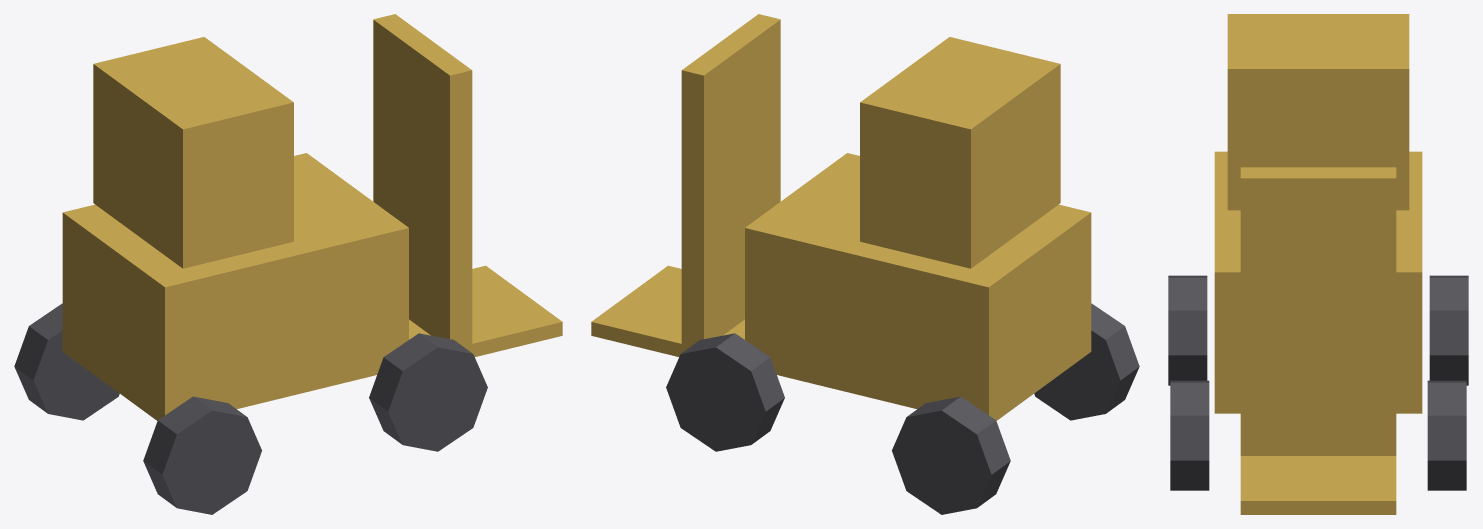
The picture shows the model from 3 angles, left to right: view 1: azimuth 30°, elevation 25°; view 2: azimuth 150°, elevation 25°; view 3: azimuth 270°, elevation 25°; orthographic projection.
Parts seen in each view (by area): view 1: part0, part1, part2, part5, part7, part6, part3; view 2: part0, part1, part2, part4, part6, part7, part3; view 3: part2, part1, part0, part3, part4, part5, part6, part7.
Boxes of the visible parts, x1,y1,x2,y2 form: part0: (62, 153, 408, 420); part1: (93, 37, 293, 268); part2: (373, 14, 472, 348); part5: (369, 333, 487, 451); part7: (143, 396, 261, 514); part6: (14, 303, 119, 420); part3: (409, 265, 562, 356); part0: (745, 153, 1091, 420); part1: (860, 37, 1060, 268); part2: (681, 14, 780, 349); part4: (666, 333, 784, 451); part6: (892, 396, 1010, 514); part7: (1034, 303, 1139, 420); part3: (591, 265, 744, 356); part2: (1240, 167, 1396, 455); part1: (1227, 14, 1409, 210); part0: (1214, 151, 1422, 413); part3: (1240, 456, 1396, 514); part4: (1427, 380, 1466, 490); part5: (1170, 380, 1209, 490); part6: (1429, 275, 1468, 385); part7: (1168, 275, 1207, 385).
Bounding box in the file's own units: 3.93 × 3.14 × 2.31.
